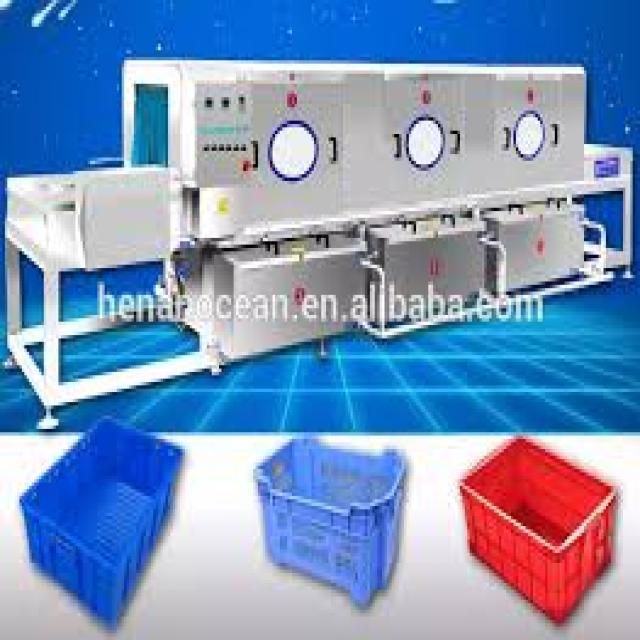basket: (0, 397, 196, 632), (235, 429, 417, 613)
